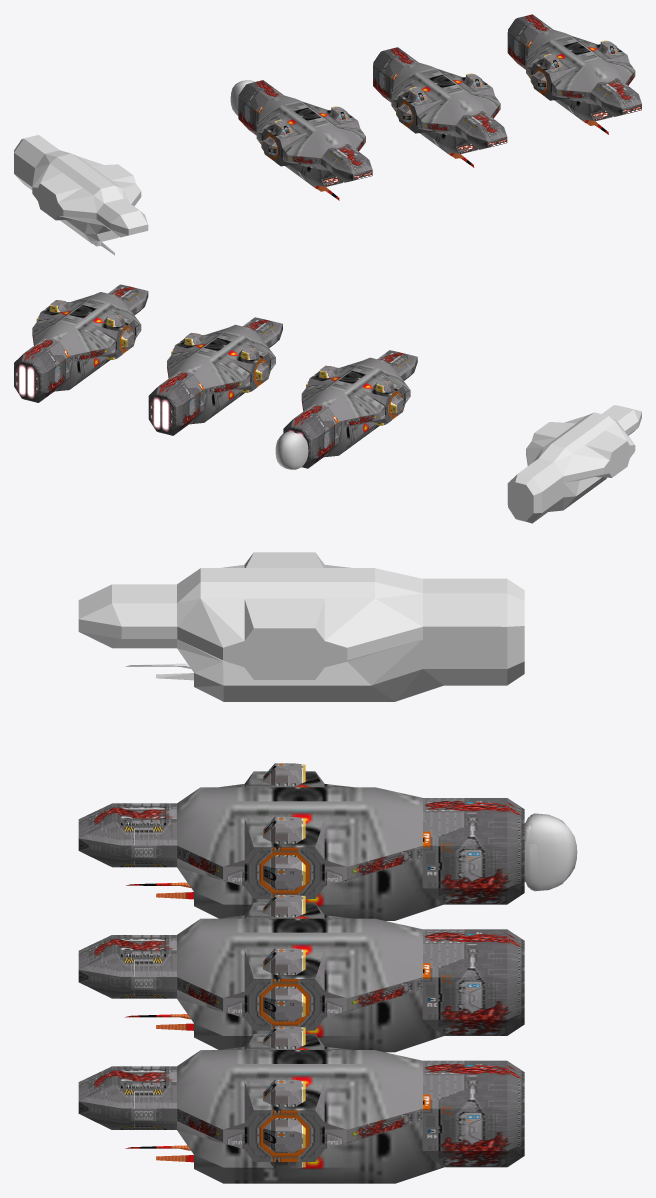
File: hgn_bst_ksh_heavycruiser.dae
3 renders of one model, top to bottom at view 1: azimuth 30°, elevation 25°; view 2: azimuth 150°, elevation 25°; view 3: azimuth 270°, elevation 25°, orthographic. The views are drawn at different scales.
Visible parts, largest first — view 1: COL[Root], MULT[root_mesh]_LOD[0], MULT[root_mesh]_LOD[1], MULT[root_mesh]_LOD[2]; view 2: COL[Root], MULT[root_mesh]_LOD[2], MULT[root_mesh]_LOD[1], MULT[root_mesh]_LOD[0], GLOW[EngineGlow3_LOD0]_LOD[0]; view 3: COL[Root], MULT[root_mesh]_LOD[2], MULT[root_mesh]_LOD[1], MULT[root_mesh]_LOD[0], GLOW[EngineGlow3_LOD0]_LOD[0], MULT[weapon_turretleftside]_LOD[1], MULT[weapon_turretleftside]_LOD[0], MULT[weapon_turretleftside]_LOD[2], MULT[weapon_turrettopleft]_LOD[2], MULT[weapon_turrettopleft]_LOD[1], MULT[weapon_turrettopleft]_LOD[0].
Boxes of the visible parts, x1,y1,x2,y2 form: COL[Root]: (14, 135, 148, 255); MULT[root_mesh]_LOD[0]: (238, 80, 372, 200); MULT[root_mesh]_LOD[1]: (373, 47, 507, 167); MULT[root_mesh]_LOD[2]: (507, 14, 641, 134); COL[Root]: (507, 405, 641, 523); MULT[root_mesh]_LOD[2]: (14, 284, 148, 402); MULT[root_mesh]_LOD[1]: (148, 317, 282, 435); MULT[root_mesh]_LOD[0]: (283, 350, 417, 468); GLOW[EngineGlow3_LOD0]_LOD[0]: (275, 431, 306, 469); COL[Root]: (78, 552, 524, 701); MULT[root_mesh]_LOD[2]: (78, 1034, 524, 1183); MULT[root_mesh]_LOD[1]: (78, 902, 524, 1052); MULT[root_mesh]_LOD[0]: (78, 771, 524, 920); GLOW[EngineGlow3_LOD0]_LOD[0]: (524, 813, 577, 891); MULT[weapon_turretleftside]_LOD[1]: (263, 986, 305, 1021); MULT[weapon_turretleftside]_LOD[0]: (263, 855, 305, 890); MULT[weapon_turretleftside]_LOD[2]: (263, 1118, 305, 1152); MULT[weapon_turrettopleft]_LOD[2]: (263, 1079, 305, 1106); MULT[weapon_turrettopleft]_LOD[1]: (263, 948, 305, 974); MULT[weapon_turrettopleft]_LOD[0]: (263, 817, 305, 843).
Size of what is drawn, in the model's own units: 1539 by 149 by 575.
